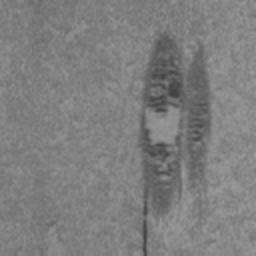Oxide scale of plate system: (138, 29, 214, 256)
